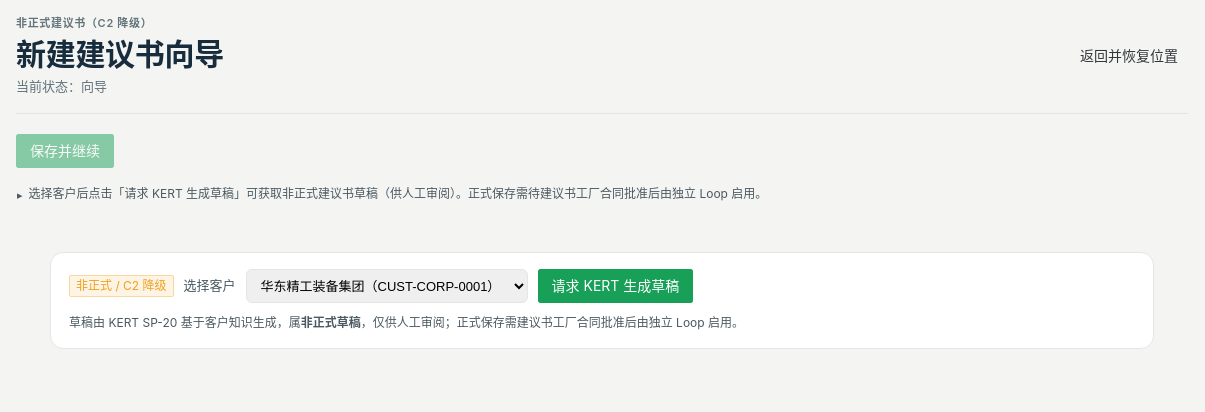
Test: P24 ProposalWizardView C2 degrade › shows 空草稿 when KERT returns SUCCESS without draft text
The image size is (1205, 412).
Click the button with test id "p24-generate" at (616, 286), box [538,269,693,303]
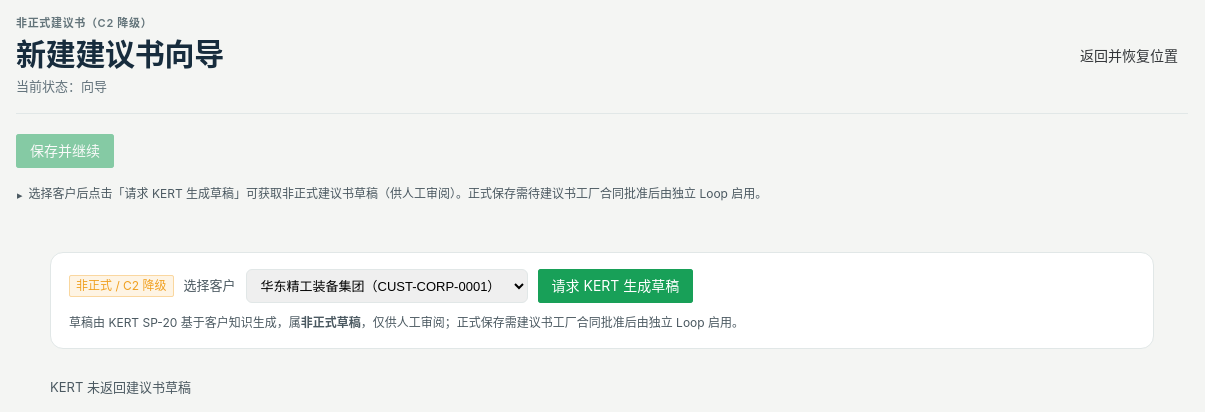
Result: the text "KERT 未返回建议书草稿" is shown at [50,379,191,395]
